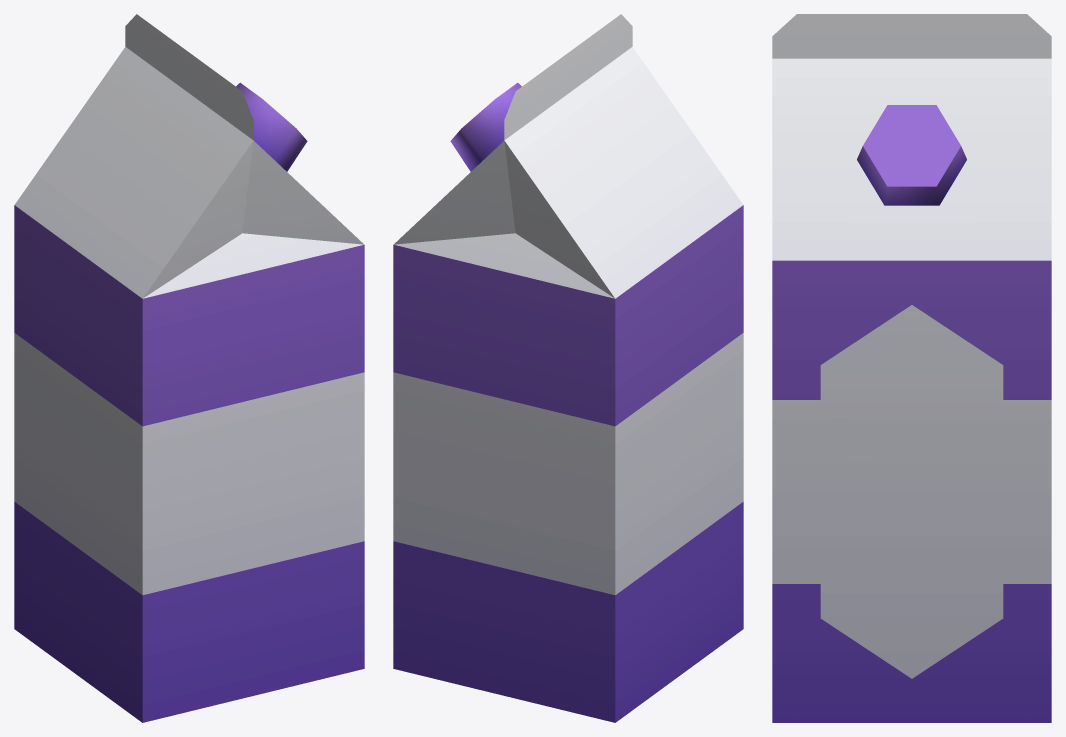
The model's file is carton.glb.
3 renders of one model, left to right at view 1: azimuth 30°, elevation 25°; view 2: azimuth 150°, elevation 25°; view 3: azimuth 270°, elevation 25°, orthographic. The views are drawn at different scales.
Visible parts, largest first — view 1: carton; view 2: carton; view 3: carton.
Boxes of the visible parts, x1,y1,x2,y2 form: carton: (14,14,364,722); carton: (393,14,743,722); carton: (772,14,1051,722).
Size of the model in its own units: 0.23 by 0.5905 by 0.23.
1 material, 1 textured.
